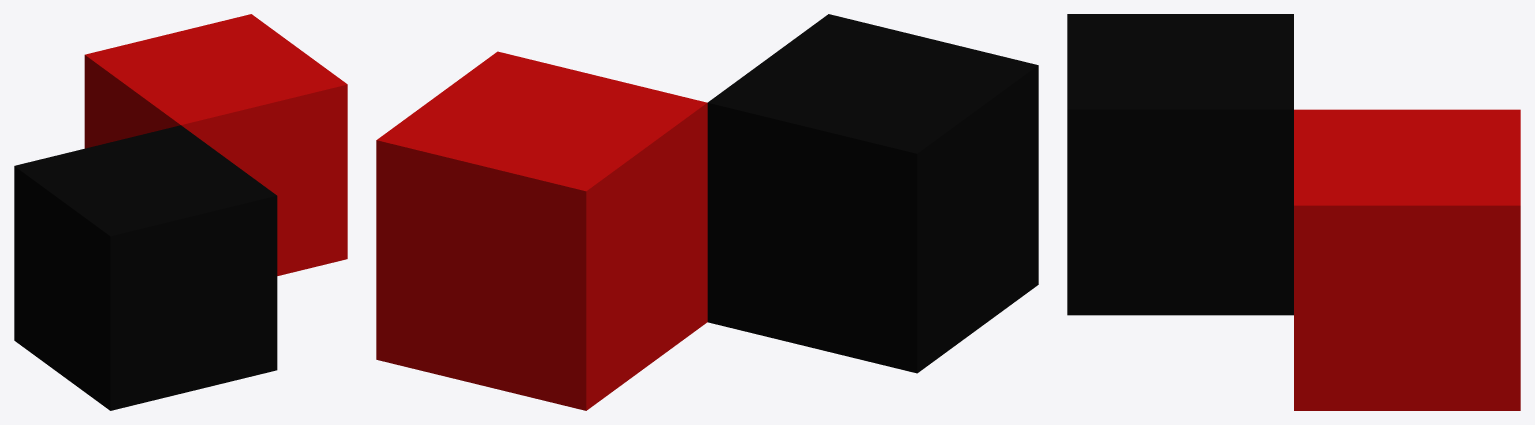
The model's file is two_material_cubes.obj.
The picture shows the model from 3 angles, left to right: view 1: azimuth 30°, elevation 25°; view 2: azimuth 150°, elevation 25°; view 3: azimuth 270°, elevation 25°; orthographic projection. The views are drawn at different scales.
Bounding box in the file's own units: 20 × 10 × 20.
